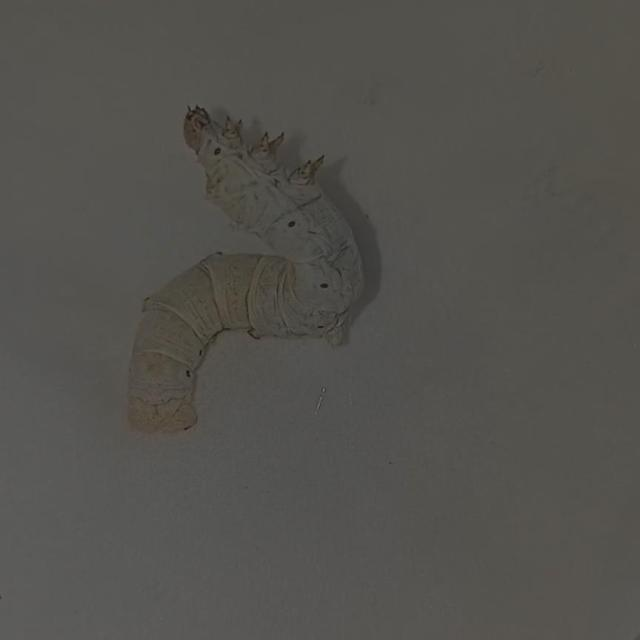Healthy: (92, 76, 409, 472)
